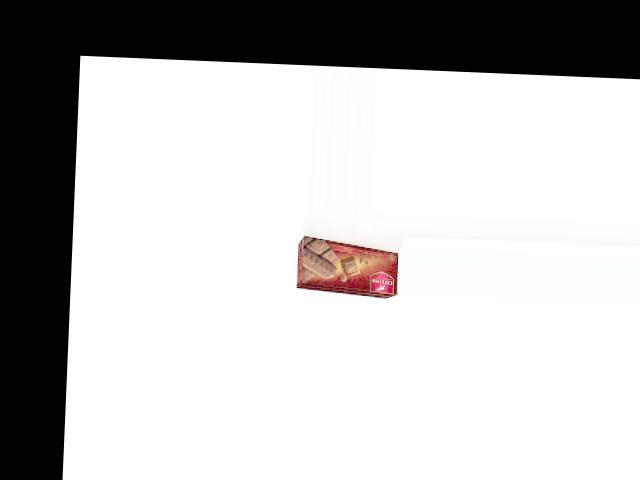chocolate: (297, 234, 399, 299)
